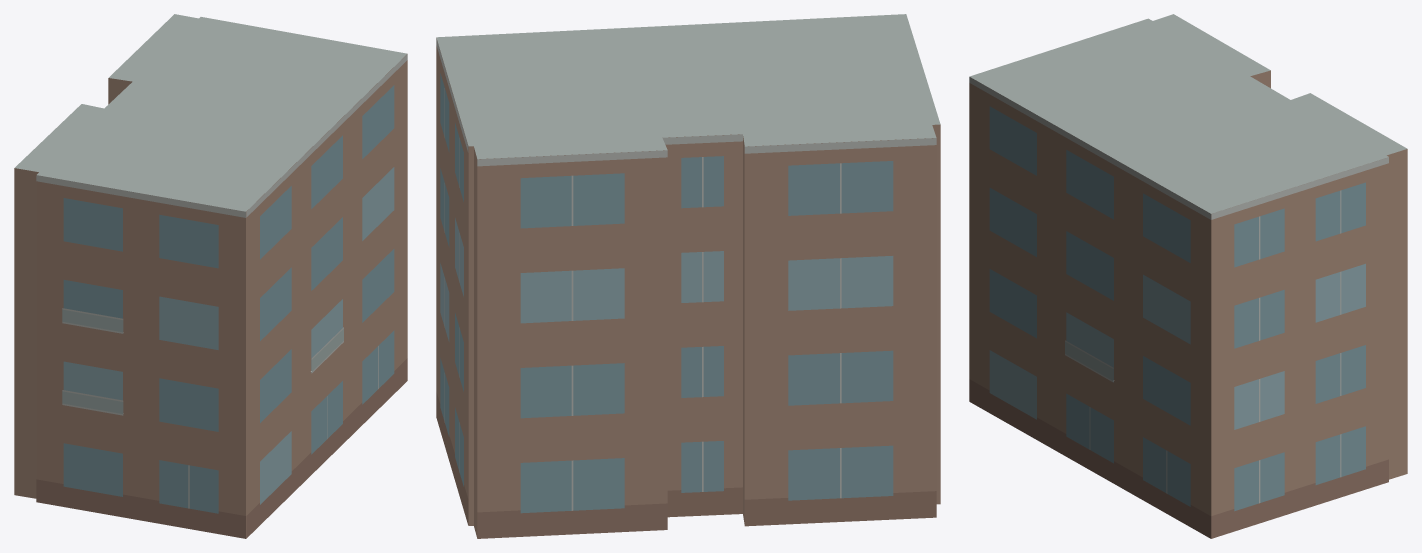
File: survey-upis-32822348.glb
The picture shows the model from 3 angles, left to right: view 1: azimuth 30°, elevation 25°; view 2: azimuth 150°, elevation 25°; view 3: azimuth 270°, elevation 25°; orthographic projection. The views are drawn at different scales.
Parts seen in each view (by area): view 1: survey-upis-32822348.tmp; view 2: survey-upis-32822348.tmp; view 3: survey-upis-32822348.tmp.
Boxes of the visible parts, x1,y1,x2,y2 form: survey-upis-32822348.tmp: (14,14,407,538); survey-upis-32822348.tmp: (436,14,940,538); survey-upis-32822348.tmp: (969,14,1407,538).
Bounding box in the file's own units: 17.02 × 12.9 × 15.78.
